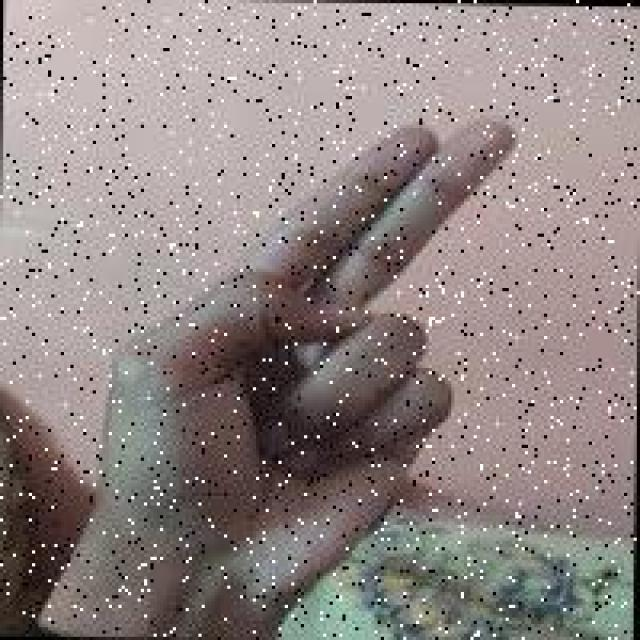H: (98, 107, 526, 600)
